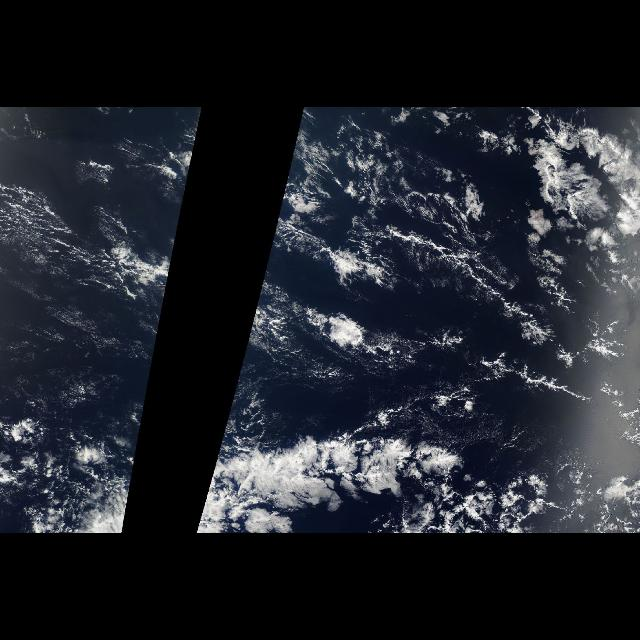Fish: (195, 412, 535, 534), (68, 412, 144, 534)
